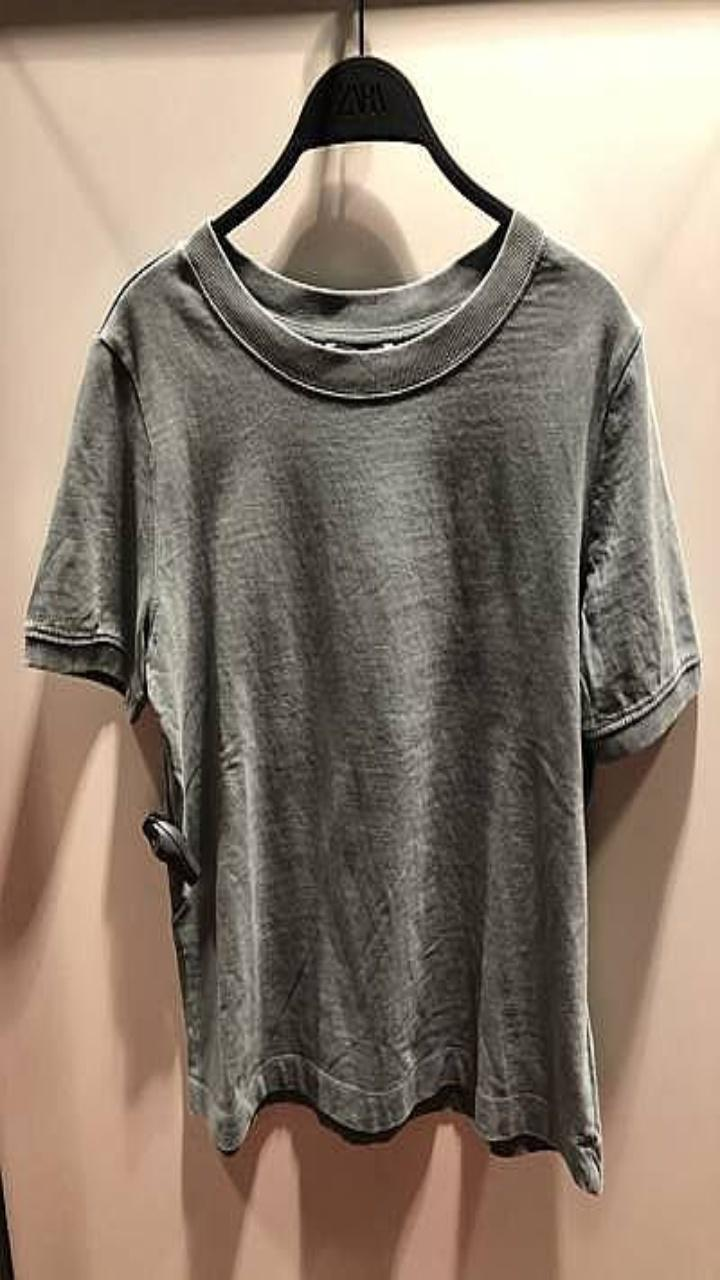T-Shirt: (25, 210, 700, 1193)
